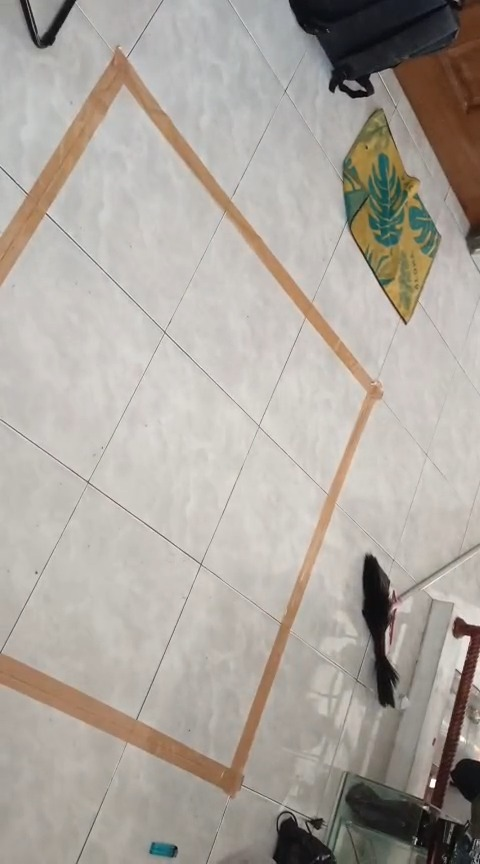floor marking: (0, 49, 382, 796)
